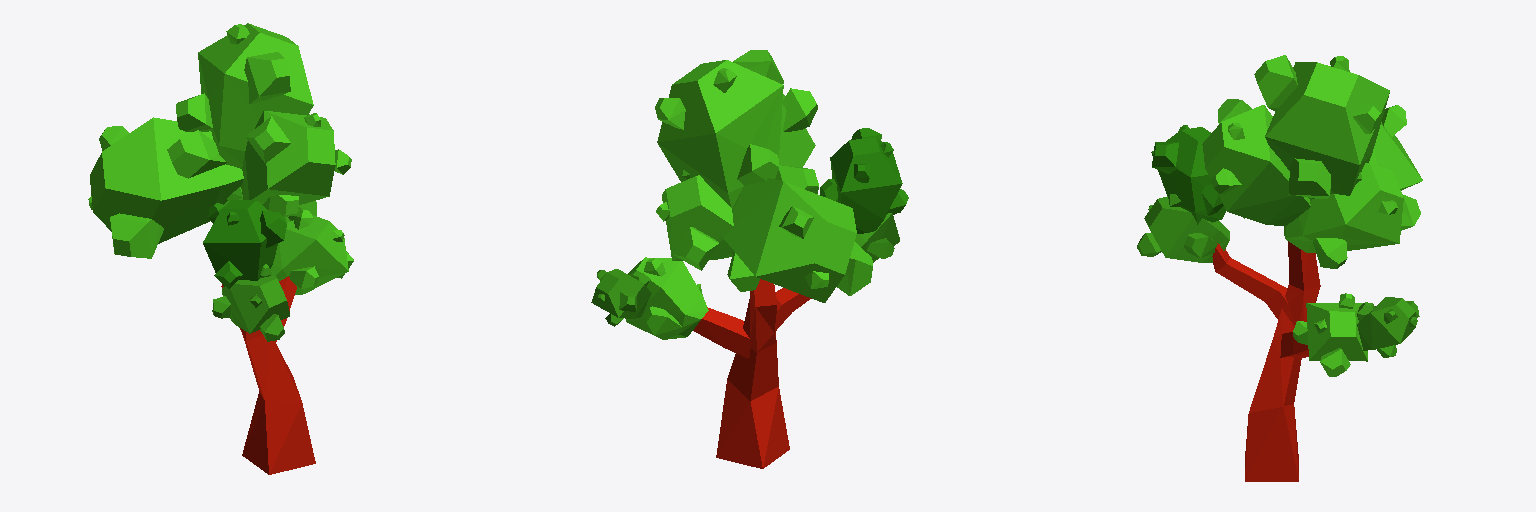
File: tree.obj
3 views of the same model, side by side, from view 1: azimuth 30°, elevation 25°; view 2: azimuth 150°, elevation 25°; view 3: azimuth 270°, elevation 25° (orthographic).
Visible parts, largest first — view 1: Tree; view 2: Tree; view 3: Tree.
Boxes of the visible parts, x1,y1,x2,y2 form: Tree: [88, 23, 353, 474]; Tree: [591, 50, 908, 468]; Tree: [1137, 55, 1422, 481].
Size of the model in its own units: 10.59 by 16.73 by 10.6.